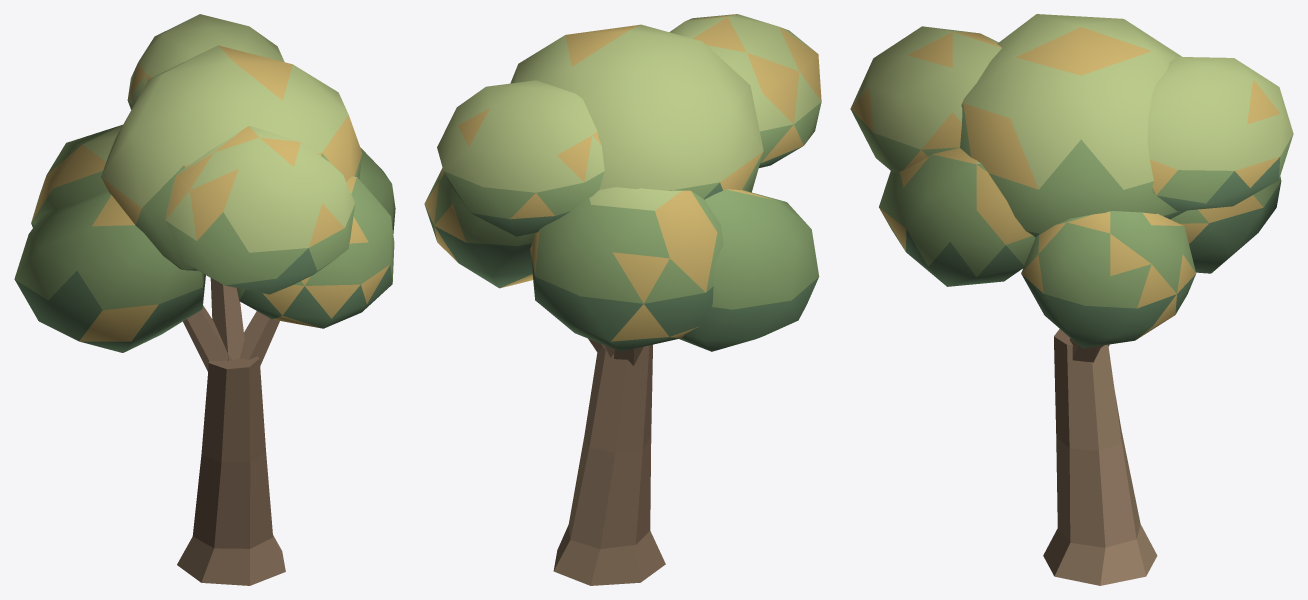
File: Oak_2.glb
3 renders of one model, left to right at view 1: azimuth 30°, elevation 25°; view 2: azimuth 150°, elevation 25°; view 3: azimuth 270°, elevation 25°, orthographic. The views are drawn at different scales.
Visible parts, largest first — view 1: Oak_2; view 2: Oak_2; view 3: Oak_2.
Part boxes in pixels (left/top/right/bottom): Oak_2: left=14, top=14, right=395, bottom=585; Oak_2: left=424, top=14, right=821, bottom=585; Oak_2: left=850, top=14, right=1293, bottom=585.
Bounding box in the file's own units: 0.5975 × 0.8125 × 0.6164.
